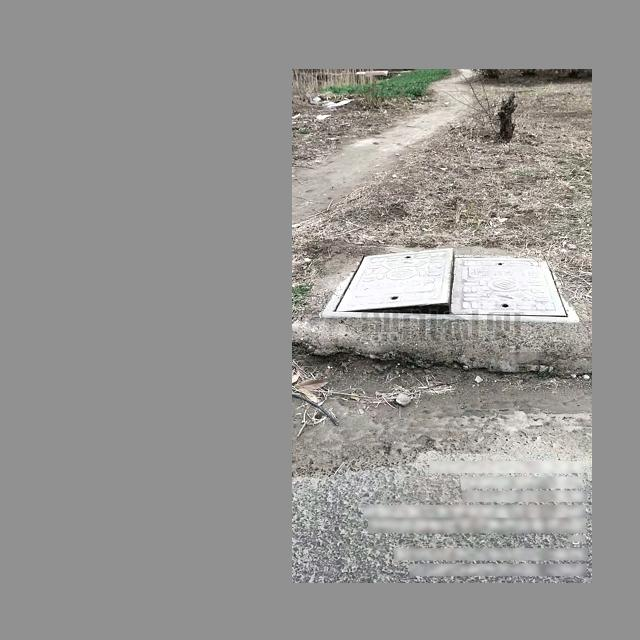uncovered: (319, 248, 581, 322)
